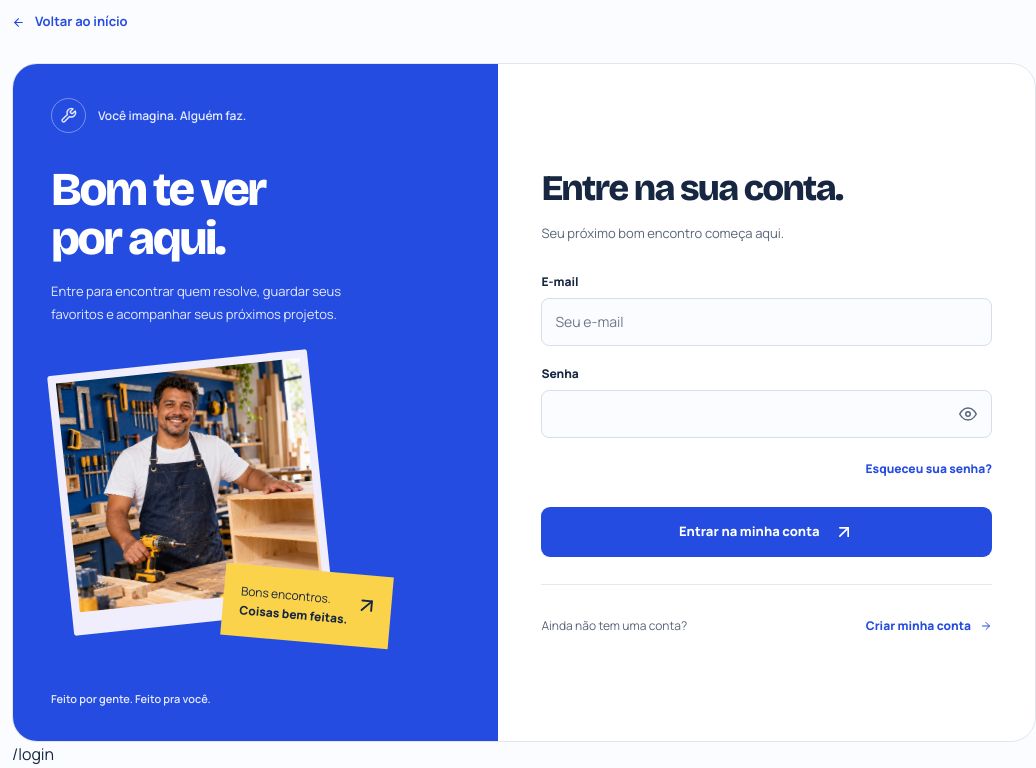
erro de conta permite tentar novamente e resposta incompleta nunca autentica
The width and height of the screenshot is (1036, 768).
Type "teste@example.test" into the field labelled "E-mail" at (767, 322), box left=541, top=298, right=992, bottom=346
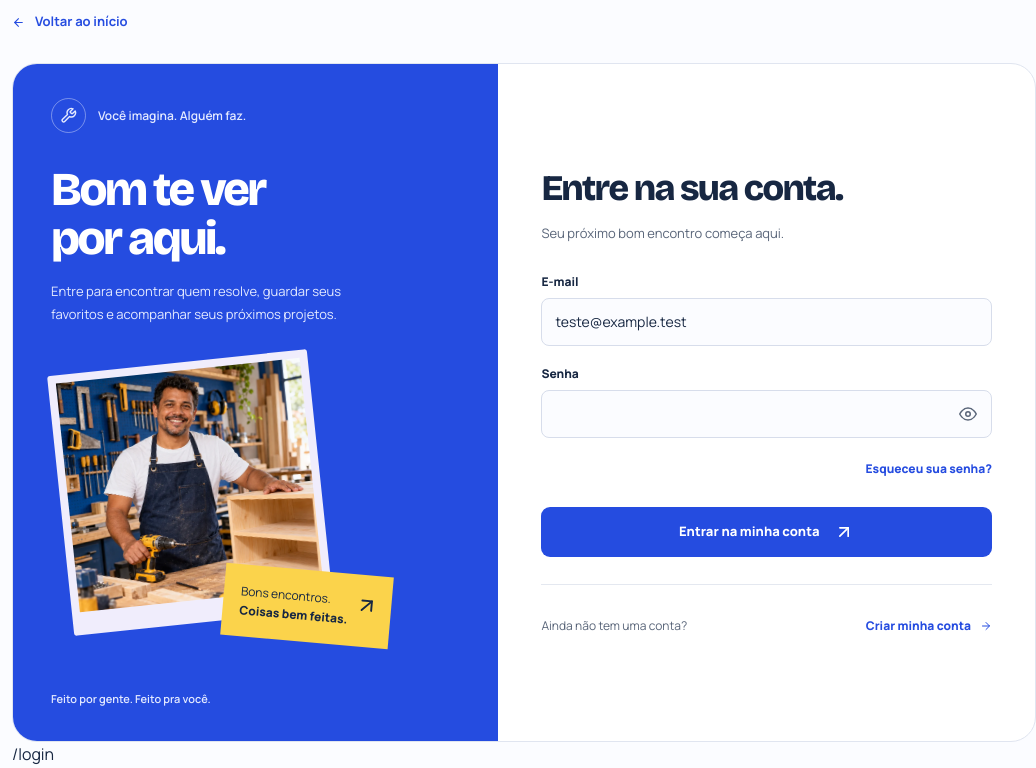
Type "senha-teste" into the password field labelled "Senha" at (767, 414), box left=541, top=390, right=992, bottom=438
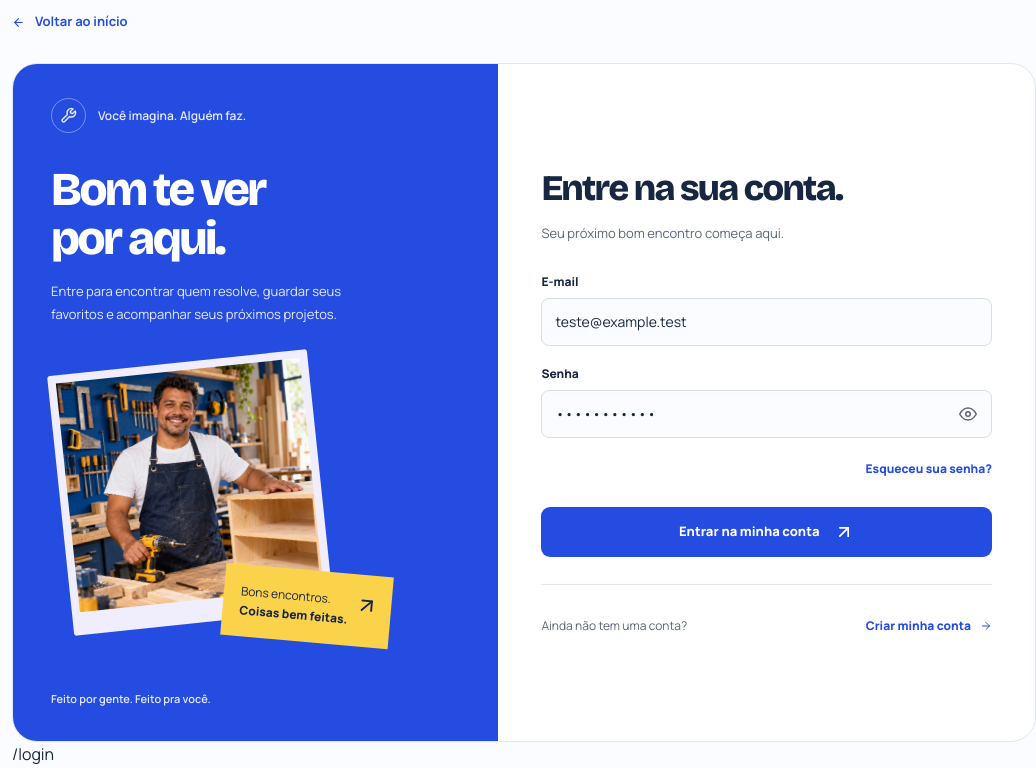
Click the button "Entrar na minha conta" at (767, 532), box left=541, top=507, right=992, bottom=557
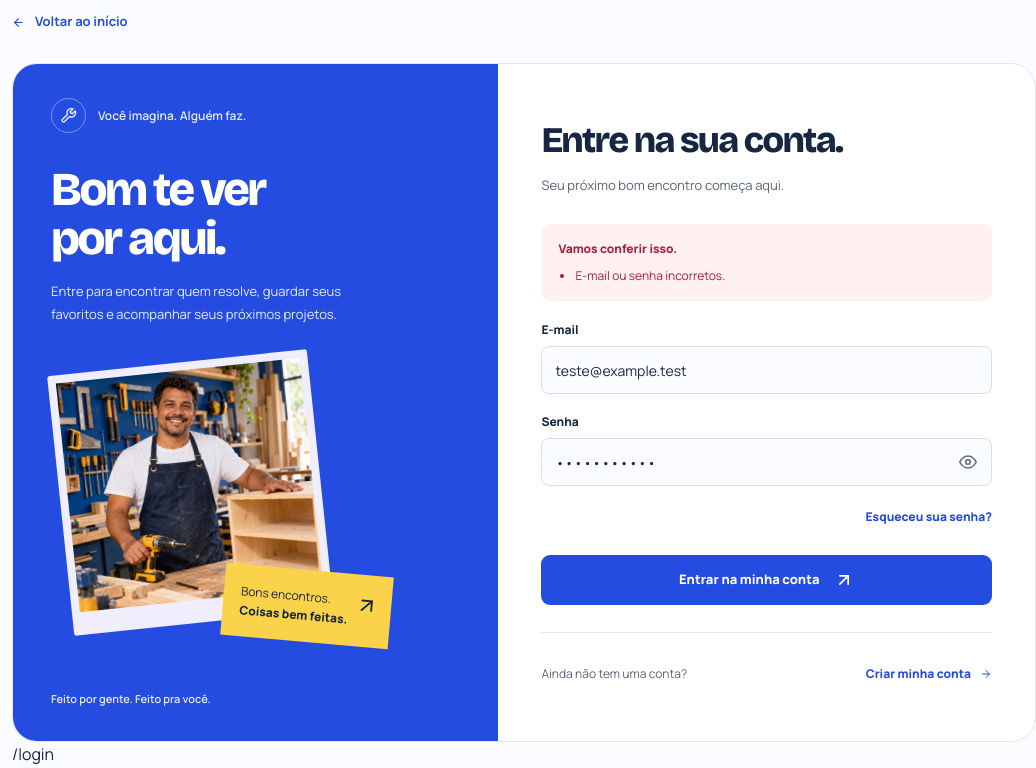
Expected: the message does not show "SQLSTATE", left=541, top=224, right=992, bottom=301
Expected: the message shows "E-mail ou senha incorretos.", left=575, top=267, right=725, bottom=284
Click the button "Entrar na minha conta" at (767, 580), box left=541, top=555, right=992, bottom=605
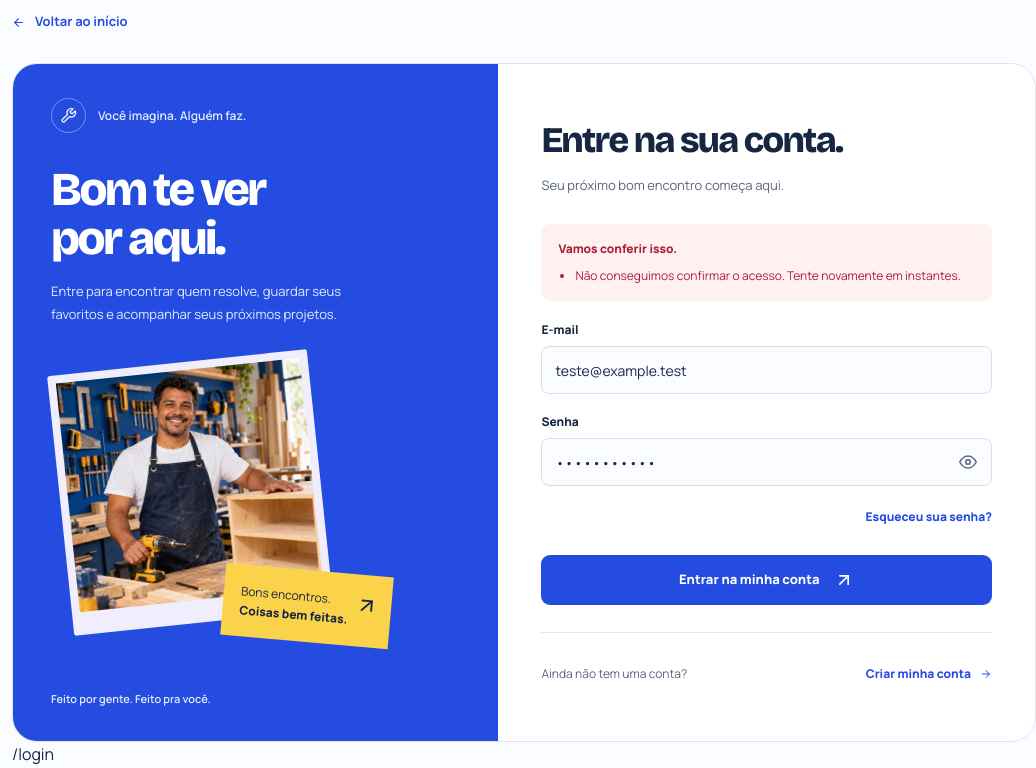
Expected: the text with test id "location" reads "/login", left=12, top=743, right=54, bottom=765
Expected: the list item "Não conseguimos confirmar o acesso. Tente novamente em instantes." is shown, left=575, top=266, right=975, bottom=286
